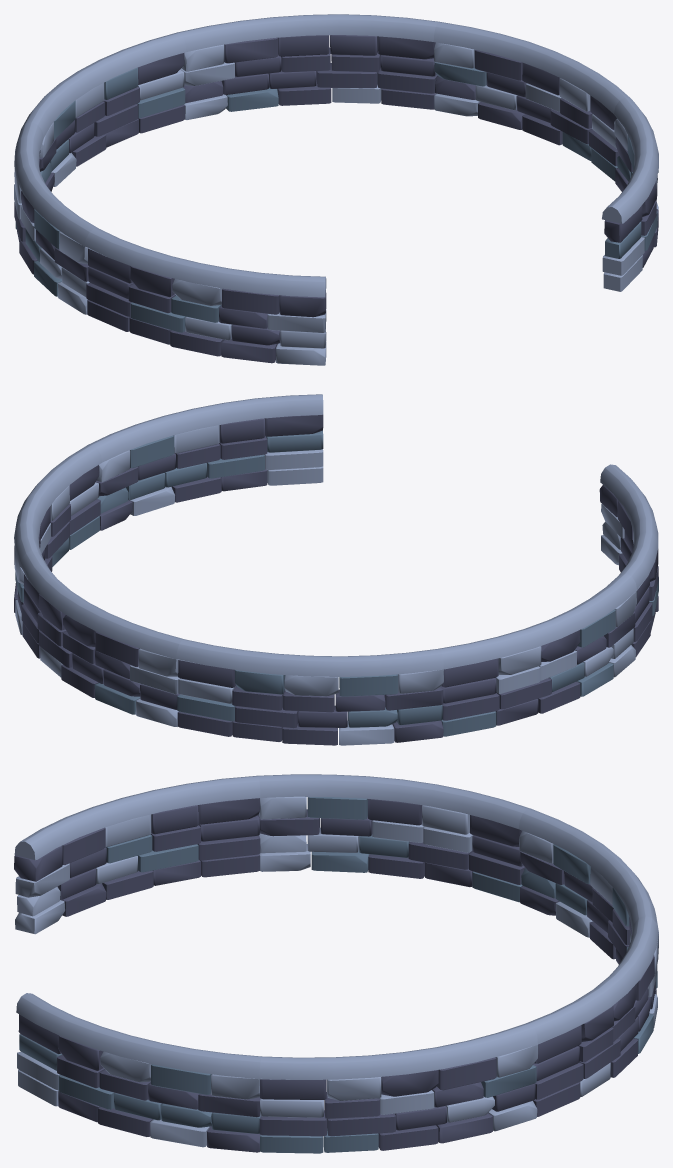
The model's file is FunSmallLvl2.fbx.
The picture shows the model from 3 angles, top to bottom: view 1: azimuth 30°, elevation 25°; view 2: azimuth 150°, elevation 25°; view 3: azimuth 270°, elevation 25°; orthographic projection. The views are drawn at different scales.
Visible parts, largest first — view 1: WallS2; view 2: WallS2; view 3: WallS2.
Part boxes in pixels (left/top/right/bottom): WallS2: left=14, top=14, right=658, bottom=365; WallS2: left=14, top=394, right=658, bottom=745; WallS2: left=14, top=774, right=658, bottom=1153.
Bounding box in the file's own units: 148 × 21.3 × 137.
